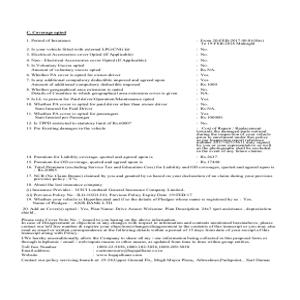text: (19, 27, 285, 267)
